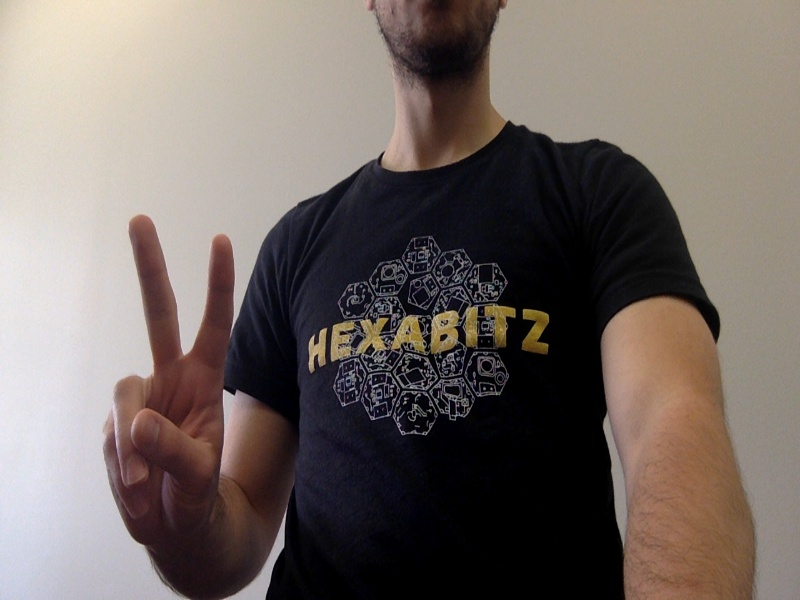2-hand: (106, 216, 235, 540)
